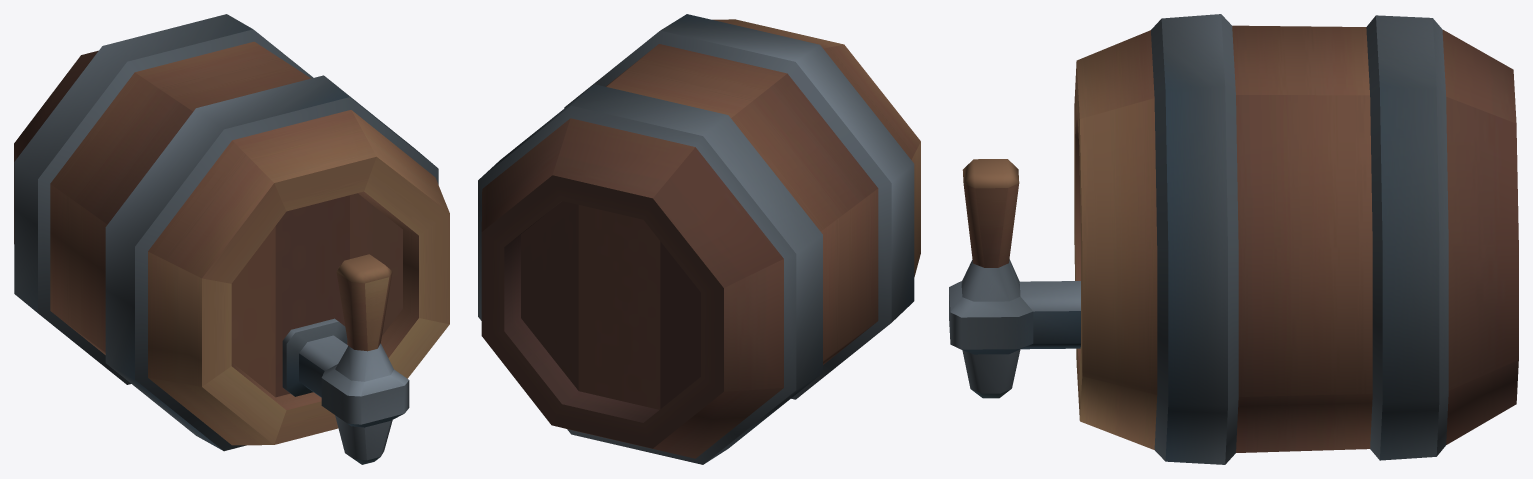
File: kask_tap.fbx
The picture shows the model from 3 angles, left to right: view 1: azimuth 30°, elevation 25°; view 2: azimuth 150°, elevation 25°; view 3: azimuth 270°, elevation 25°; orthographic projection. The views are drawn at different scales.
Parts seen in each view (by area): view 1: kask_tap; view 2: kask_tap; view 3: kask_tap.
Boxes of the visible parts, x1,y1,x2,y2 form: kask_tap: (14,14,449,464); kask_tap: (478,14,920,464); kask_tap: (949,14,1518,464).
Bounding box in the file's own units: 91.03 × 90.86 × 124.
